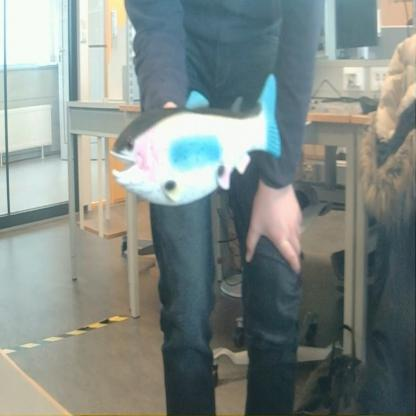rubberfish: (108, 71, 286, 209)
